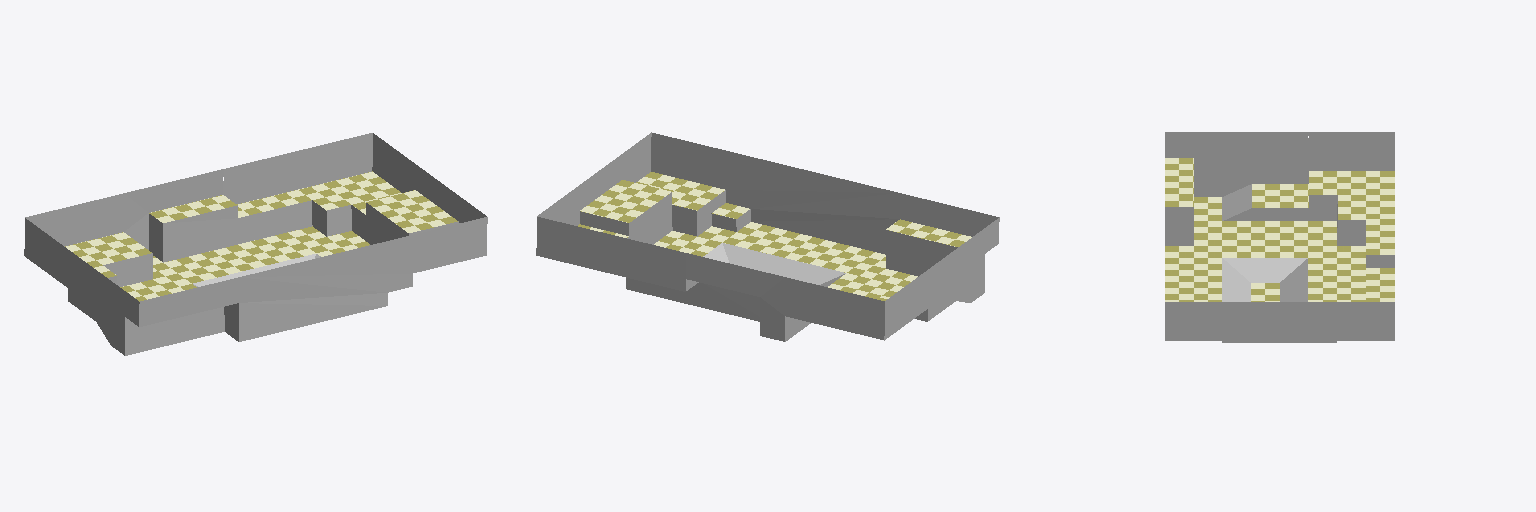
3 renders of one model, left to right at view 1: azimuth 30°, elevation 25°; view 2: azimuth 150°, elevation 25°; view 3: azimuth 270°, elevation 25°, orthographic.
Size of the model in its own units: 28 by 6 by 16.04.
2 materials, 1 textured.